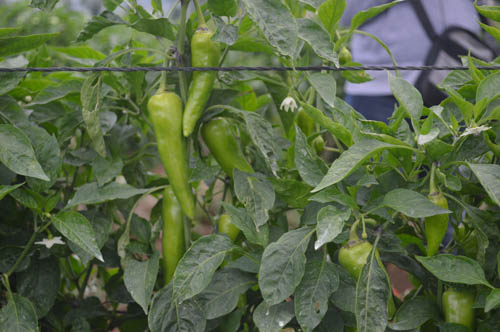ChiliPepper: (150, 96, 194, 218), (182, 35, 221, 132), (339, 242, 391, 309), (206, 121, 254, 186), (159, 189, 184, 277), (426, 200, 447, 258), (442, 292, 472, 325)
